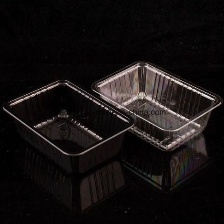plastic_box: (0, 73, 139, 181), (84, 54, 223, 157)
